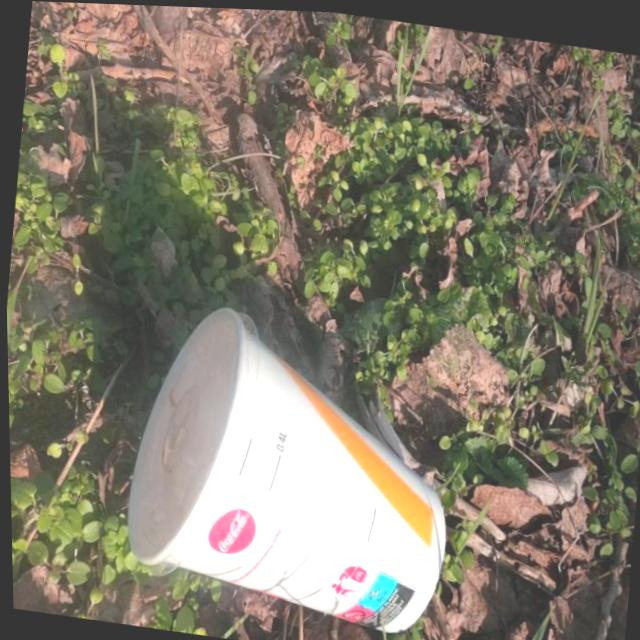Cup: (105, 283, 468, 639)
